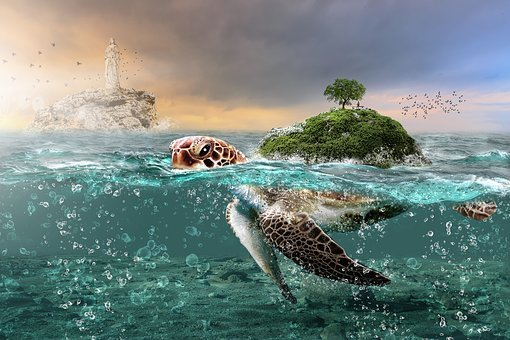sea: (19, 109, 510, 326)
sky: (7, 4, 510, 120)
